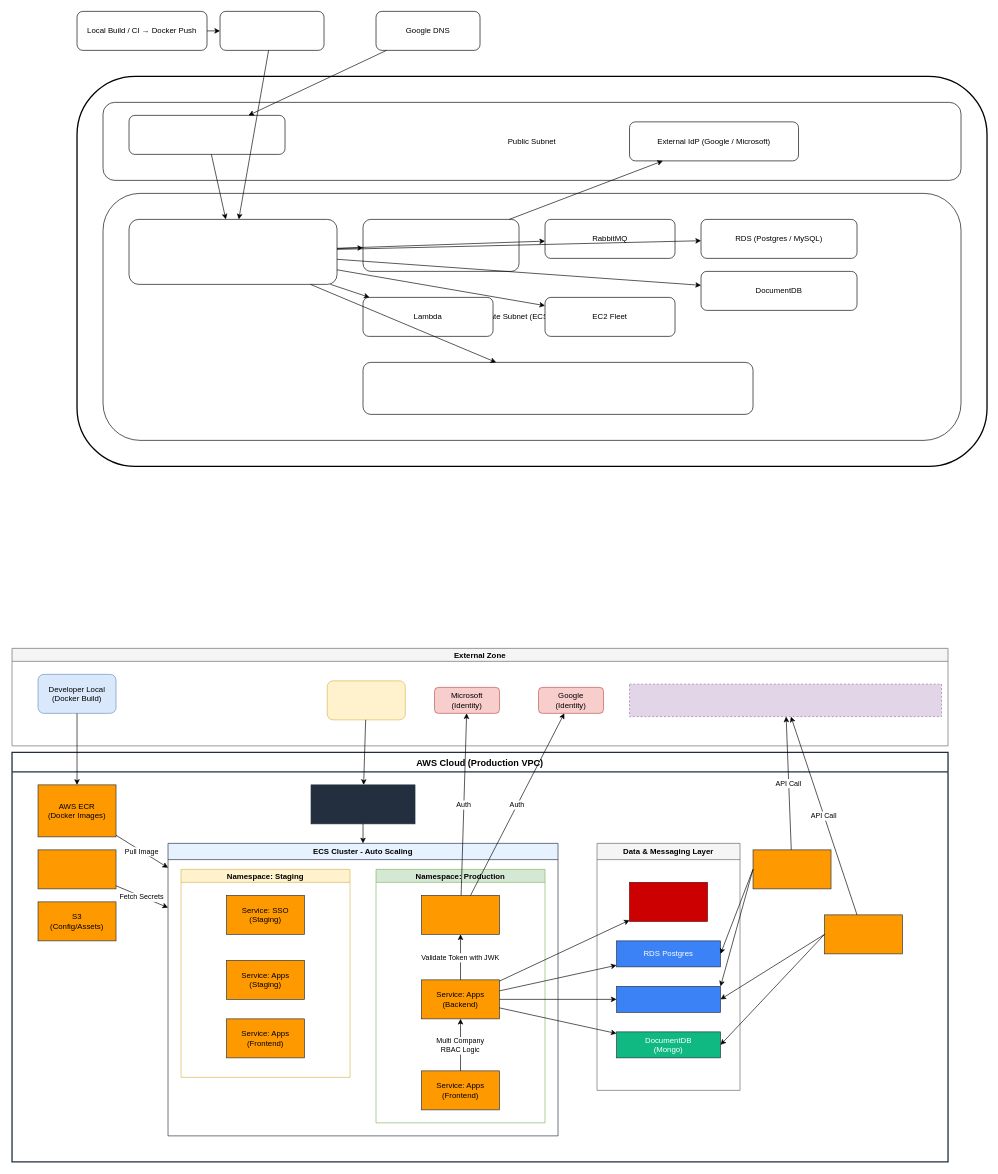
Image size: 998x1174. Some labels were removed from this diagram. Each missing label, with the centre of its shape:
"Amazon MQ (RabbitMQ)" goes at [668,901].
"Application Load Balancer" goes at [206,134].
"AWS Secrets Manager (Creds/Keys)" goes at [76,869].
"EC2 Instances" goes at [791,869].
"ECR Registry" goes at [271,30].
"ECS Cluster (Staging + Production Services)" goes at [232,251].
"External Systems (IFCA / Oracle / Third Party / GCP / Azure)" goes at [557,388].
"Google CloudDNS" goes at [366,700].
"Integrations (Oracle, GCP, Azure, 3rd Party)" goes at [785,700].
"Lambda Functions" goes at [863,934].
"Load Balancer (ALB)" goes at [362,804].
"RDS MySQL" goes at [668,999].
"Service: SSO (Auth Center)" goes at [460,914].
"SSO Service + RBAC" goes at [440,245].
